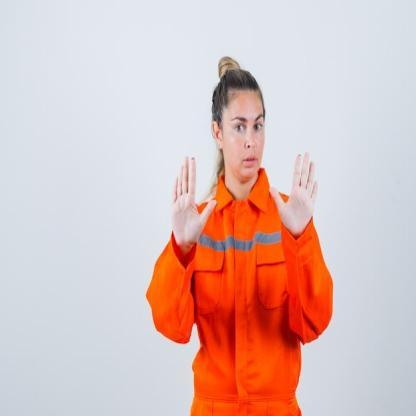stop: (170, 150, 219, 252)
